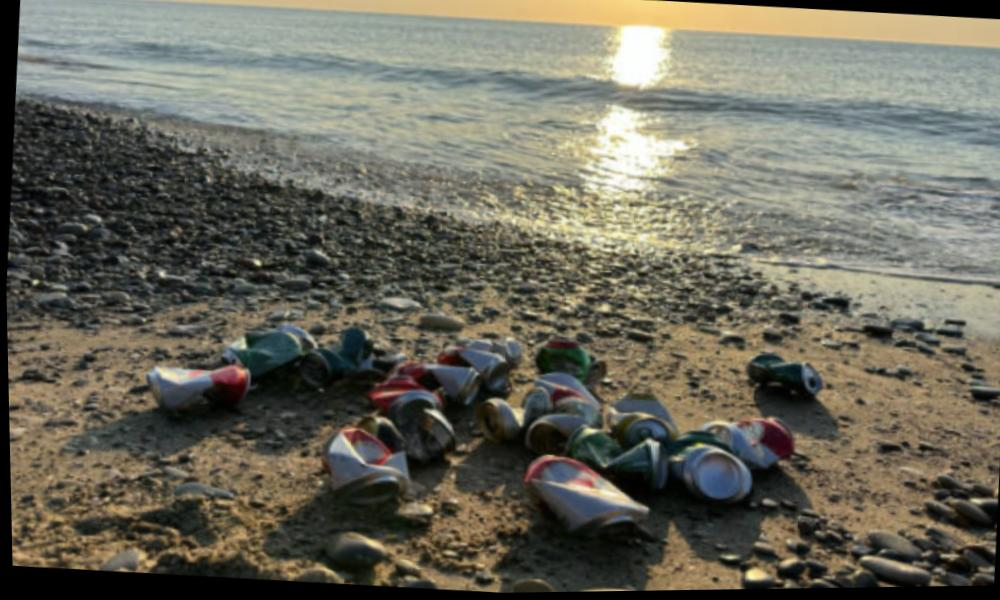can: (545, 421, 704, 532), (513, 443, 669, 539), (309, 417, 420, 530), (356, 381, 467, 472), (654, 434, 760, 516), (736, 345, 841, 421), (697, 416, 795, 491), (376, 347, 487, 412), (490, 356, 560, 455), (135, 355, 251, 414), (551, 410, 678, 461), (229, 324, 337, 378), (530, 361, 604, 427), (447, 322, 533, 367), (429, 342, 503, 389), (271, 379, 274, 391)
